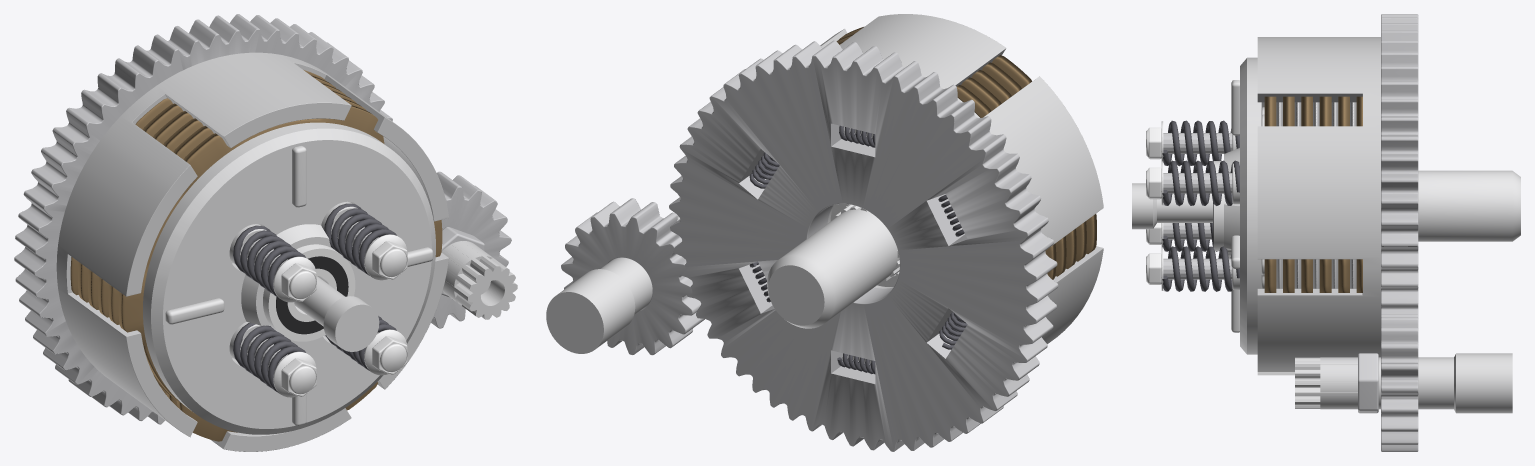
The model's file is clutch.glb.
3 renders of one model, left to right at view 1: azimuth 30°, elevation 25°; view 2: azimuth 150°, elevation 25°; view 3: azimuth 270°, elevation 25°, orthographic. The views are drawn at different scales.
Visible parts, largest first — view 1: clutch__basket, clutch__pressure_plate, clutch__friction_plates, clutch__springs, clutch__spring_bolts, clutch__crank_stub, clutch__primary_gear, clutch__release_bearing, clutch__lifter, clutch__hub; view 2: clutch__basket, clutch__primary_gear, clutch__mainshaft, clutch__crank_stub, clutch__friction_plates, clutch__damper_springs; view 3: clutch__basket, clutch__crank_stub, clutch__pressure_plate, clutch__mainshaft, clutch__springs, clutch__primary_gear, clutch__spring_bolts, clutch__friction_plates, clutch__lifter, clutch__steel_plates, clutch__hub, clutch__release_bearing.
Boxes of the visible parts, x1=… form: clutch__basket: x1=14, y1=14, x2=448, y2=451; clutch__pressure_plate: x1=143, y1=122, x2=435, y2=434; clutch__friction_plates: x1=70, y1=70, x2=442, y2=441; clutch__springs: x1=233, y1=203, x2=396, y2=393; clutch__spring_bolts: x1=247, y1=218, x2=407, y2=397; clutch__crank_stub: x1=441, y1=227, x2=517, y2=319; clutch__primary_gear: x1=431, y1=171, x2=511, y2=328; clutch__release_bearing: x1=263, y1=244, x2=355, y2=341; clutch__lifter: x1=294, y1=276, x2=379, y2=351; clutch__hub: x1=229, y1=201, x2=364, y2=360; clutch__basket: x1=669, y1=14, x2=1103, y2=451; clutch__primary_gear: x1=561, y1=198, x2=704, y2=355; clutch__mainshaft: x1=767, y1=204, x2=899, y2=328; clutch__crank_stub: x1=546, y1=215, x2=679, y2=353; clutch__friction_plates: x1=836, y1=27, x2=1096, y2=279; clutch__damper_springs: x1=749, y1=125, x2=967, y2=374; clutch__basket: x1=1257, y1=14, x2=1418, y2=375; clutch__crank_stub: x1=1295, y1=353, x2=1512, y2=413; clutch__pressure_plate: x1=1224, y1=57, x2=1261, y2=354; clutch__mainshaft: x1=1418, y1=170, x2=1520, y2=241; clutch__springs: x1=1161, y1=120, x2=1239, y2=291; clutch__primary_gear: x1=1381, y1=314, x2=1418, y2=451; clutch__spring_bolts: x1=1146, y1=121, x2=1232, y2=290; clutch__friction_plates: x1=1264, y1=96, x2=1362, y2=292; clutch__lifter: x1=1132, y1=183, x2=1212, y2=229; clutch__steel_plates: x1=1276, y1=102, x2=1356, y2=288; clutch__hub: x1=1232, y1=107, x2=1264, y2=289; clutch__release_bearing: x1=1213, y1=161, x2=1231, y2=251.
Bounding box in the file's own units: 11.89 × 9.2 × 9.3.
